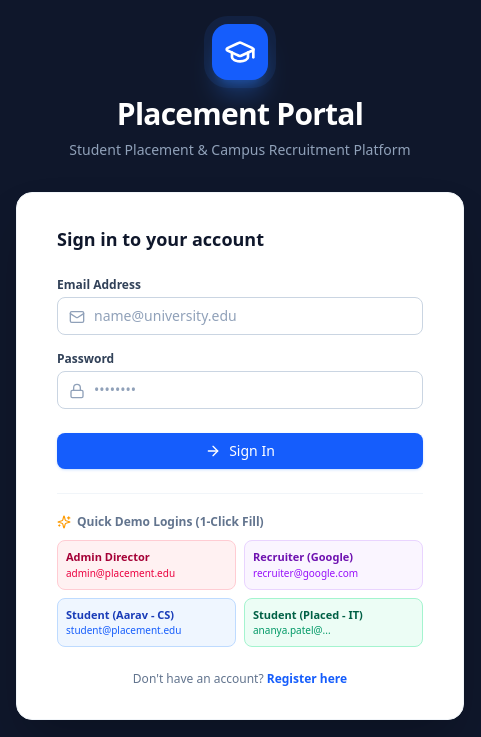
Test: Login Page Component Tests › populates fields when clicking a demo login button
This screenshot has width=481, height=737.
Click the text "Admin Director": {"x": 108, "y": 556} [66,549,150,564]
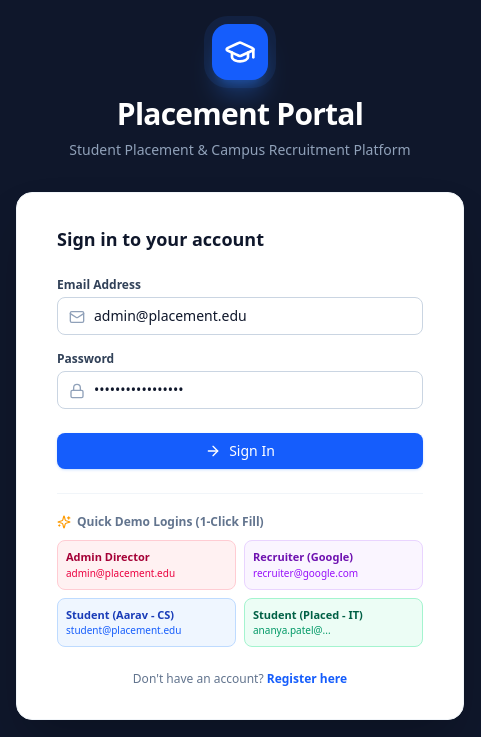
Result: the field with placeholder "name@university.edu" holds "admin@placement.edu" at [57,297,423,335]
